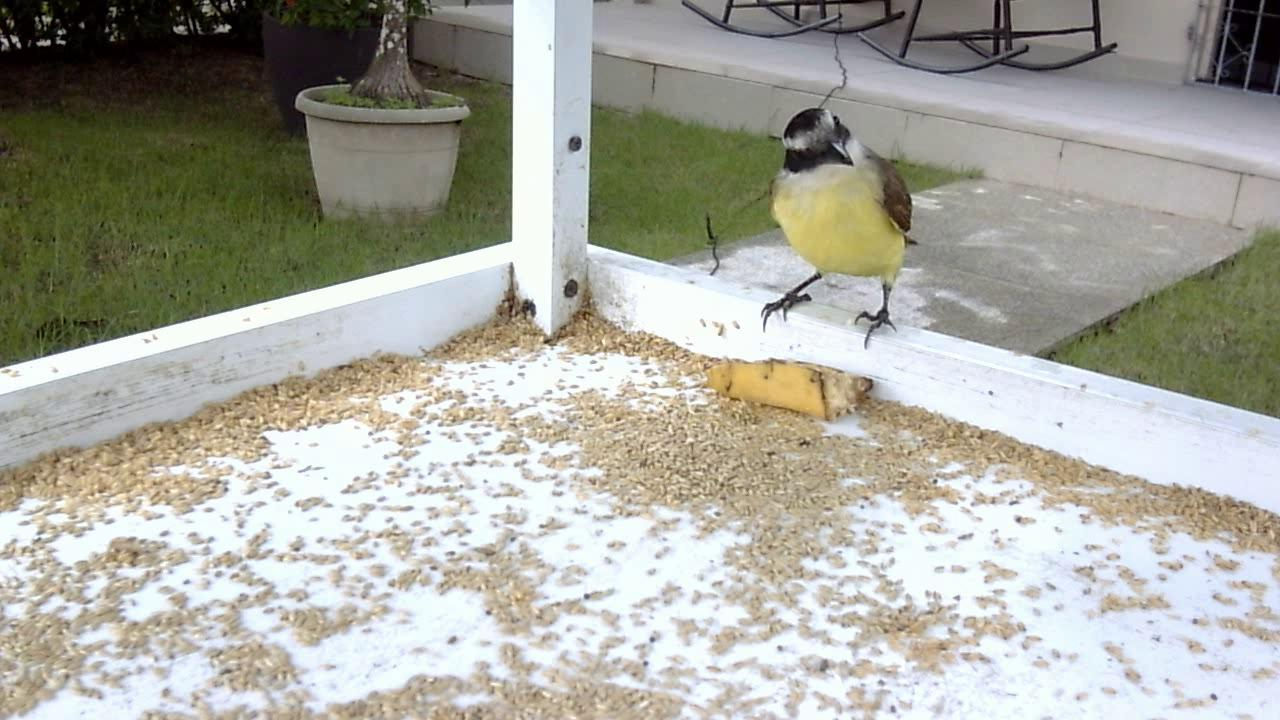bem_te_vi: (748, 94, 930, 363)
